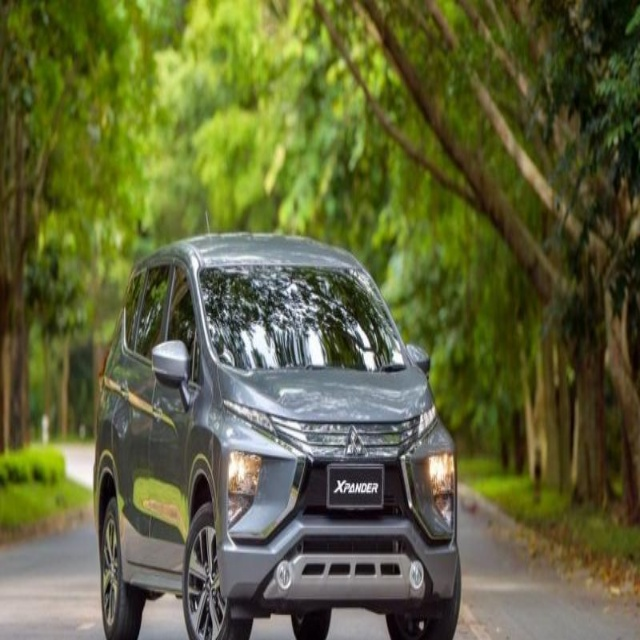Car: (93, 231, 462, 640)
